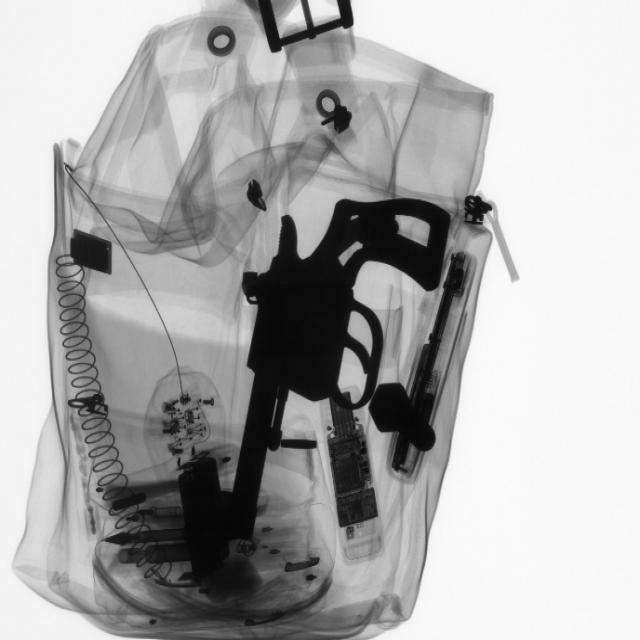GUN: (231, 192, 453, 514)
